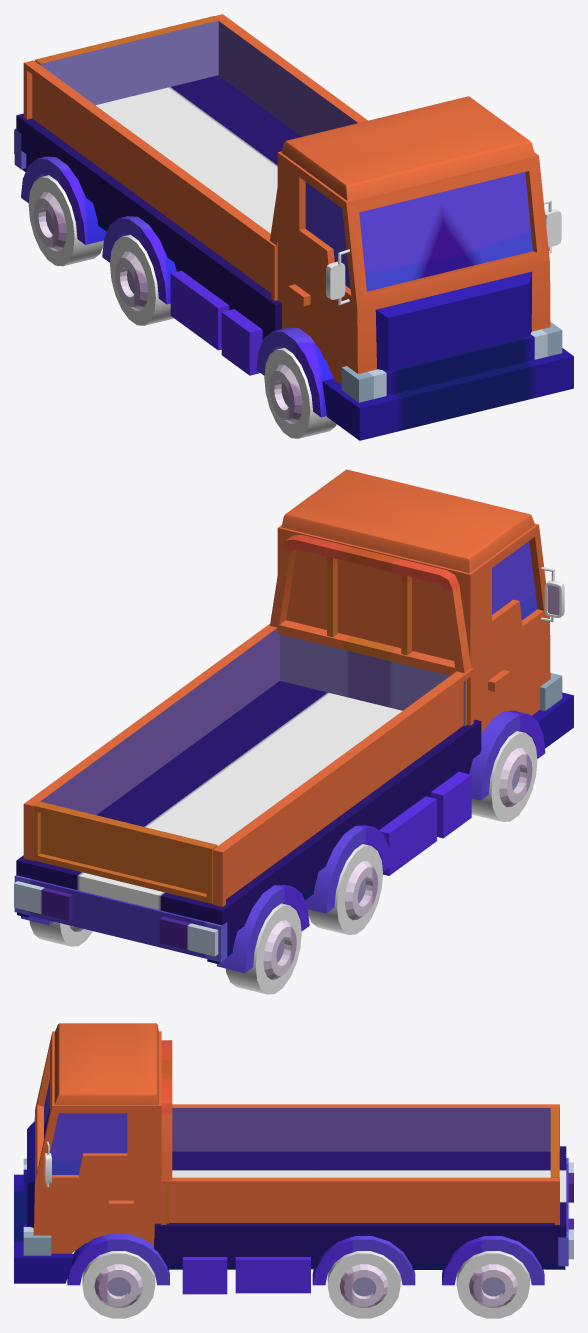
File: Green_Middle_Truck_Open.fbx
3 renders of one model, top to bottom at view 1: azimuth 30°, elevation 25°; view 2: azimuth 150°, elevation 25°; view 3: azimuth 270°, elevation 25°, orthographic. The views are drawn at different scales.
Parts seen in each view (by area): view 1: Green_Middle_Truck, Middle_Truck_Back_Door001; view 2: Green_Middle_Truck, Middle_Truck_Back_Door001; view 3: Green_Middle_Truck, Middle_Truck_Back_Door001.
Boxes of the visible parts, x1=… form: Green_Middle_Truck: x1=14, y1=14, x2=573, y2=440; Middle_Truck_Back_Door001: x1=35, y1=16, x2=220, y2=105; Green_Middle_Truck: x1=14, y1=469, x2=573, y2=994; Middle_Truck_Back_Door001: x1=32, y1=801, x2=217, y2=903; Green_Middle_Truck: x1=14, y1=1023, x2=573, y2=1318; Middle_Truck_Back_Door001: x1=550, y1=1108, x2=559, y2=1177.
Size of the model in its own units: 222 by 243 by 570.
